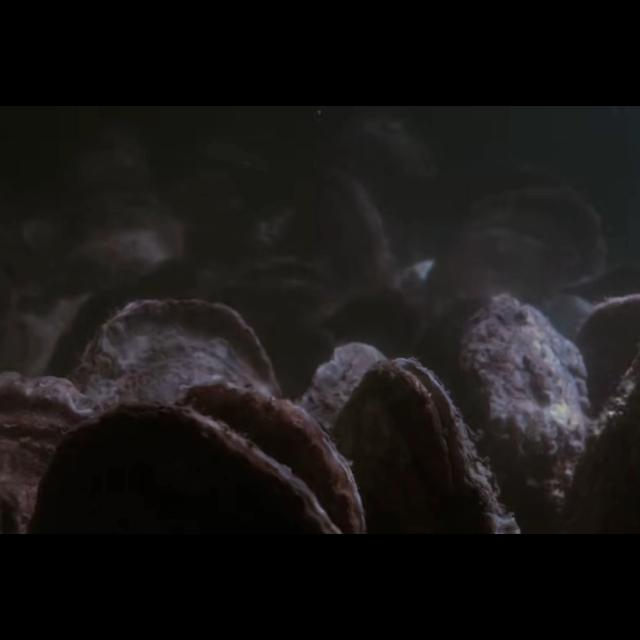Oyster-Closed: (68, 298, 282, 534), (32, 402, 338, 534), (452, 294, 594, 534), (178, 378, 366, 534), (424, 186, 610, 324), (294, 343, 391, 535), (0, 370, 101, 534), (292, 169, 400, 305), (59, 201, 184, 291), (574, 294, 640, 452)
Oyster-Open: (330, 358, 518, 534), (220, 256, 342, 332)
